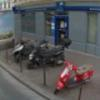motorcycles: (53, 60, 94, 96), (26, 43, 66, 71)
